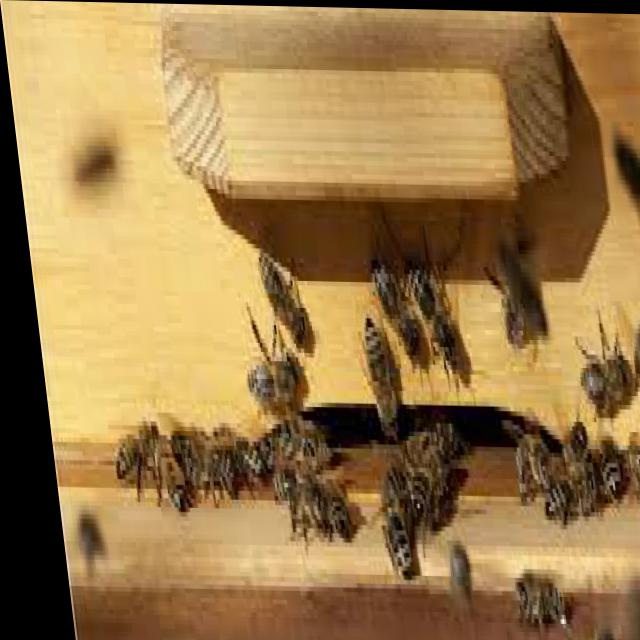Abeille: (397, 248, 458, 382), (358, 232, 415, 368), (231, 320, 298, 420), (480, 238, 532, 356), (343, 305, 394, 421), (98, 406, 156, 507), (564, 325, 627, 415), (253, 250, 308, 347), (497, 558, 568, 629), (393, 457, 445, 545), (365, 481, 409, 578), (494, 408, 547, 487), (614, 432, 639, 521)
